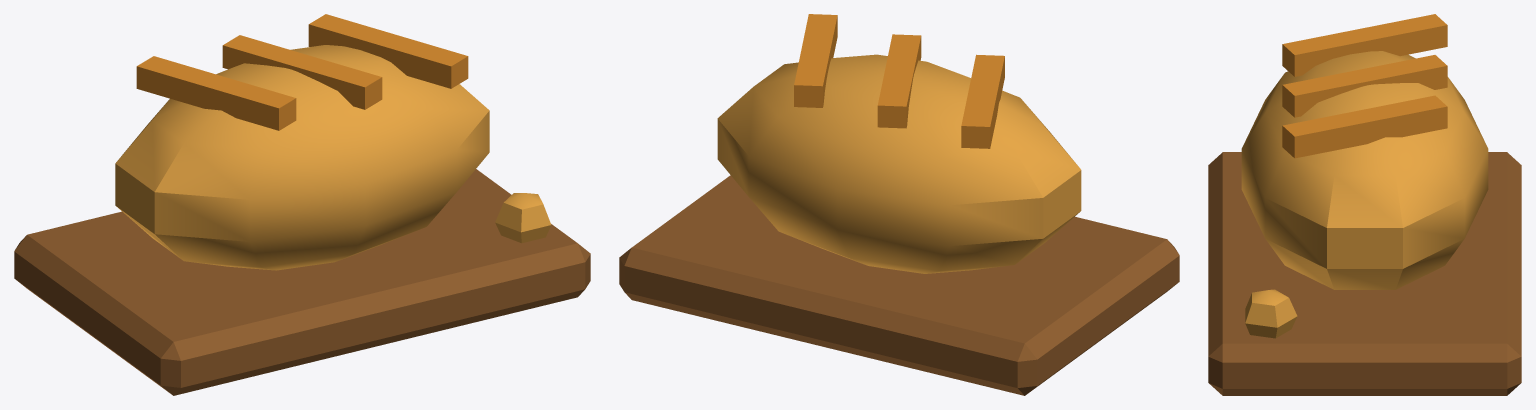
The model's file is PR_Drink_Ekmek.fbx.
3 views of the same model, side by side, from view 1: azimuth 30°, elevation 25°; view 2: azimuth 150°, elevation 25°; view 3: azimuth 270°, elevation 25° (orthographic). The views are drawn at different scales.
Parts seen in each view (by area): view 1: PR_Drink_Ekmek; view 2: PR_Drink_Ekmek; view 3: PR_Drink_Ekmek.
Part boxes in pixels (bbox=[...]): PR_Drink_Ekmek: bbox=[14, 14, 590, 395]; PR_Drink_Ekmek: bbox=[619, 14, 1179, 395]; PR_Drink_Ekmek: bbox=[1208, 14, 1521, 395].
Size of the model in its own units: 0.2 by 0.103 by 0.13.
Materials: 1 (1 with a texture image).
